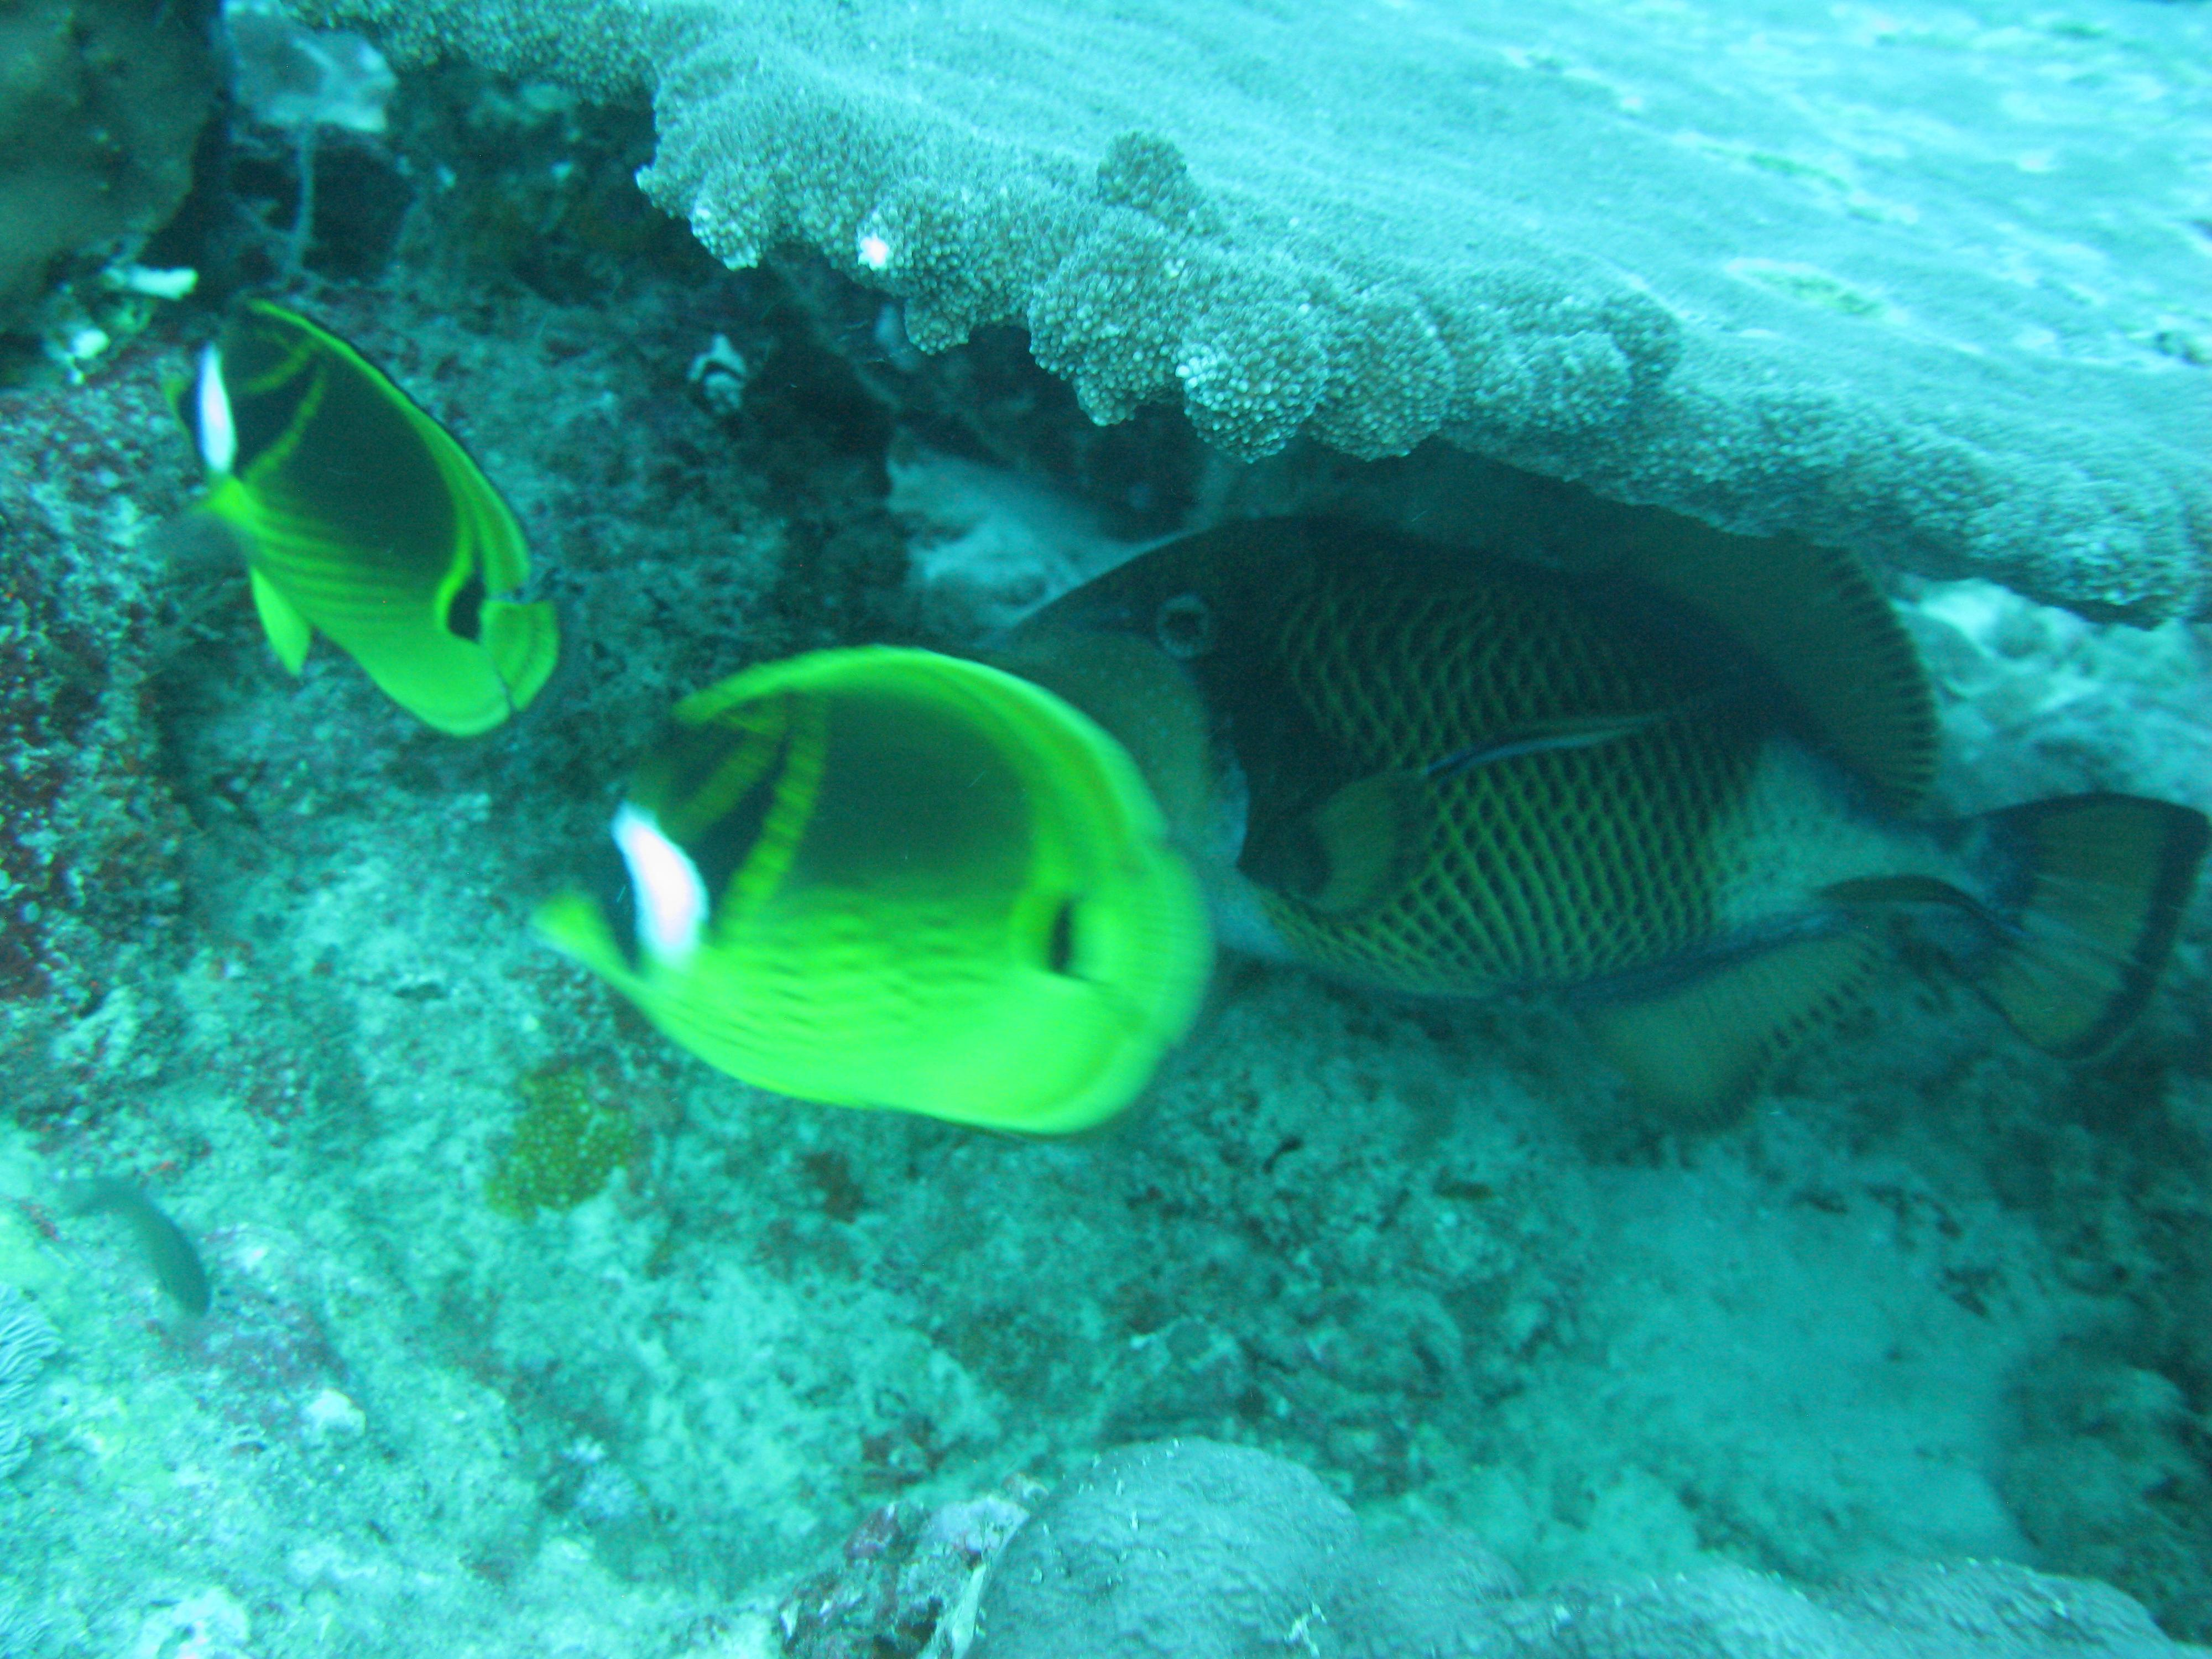Fish: (528, 638, 1301, 1157), (139, 284, 589, 751)
